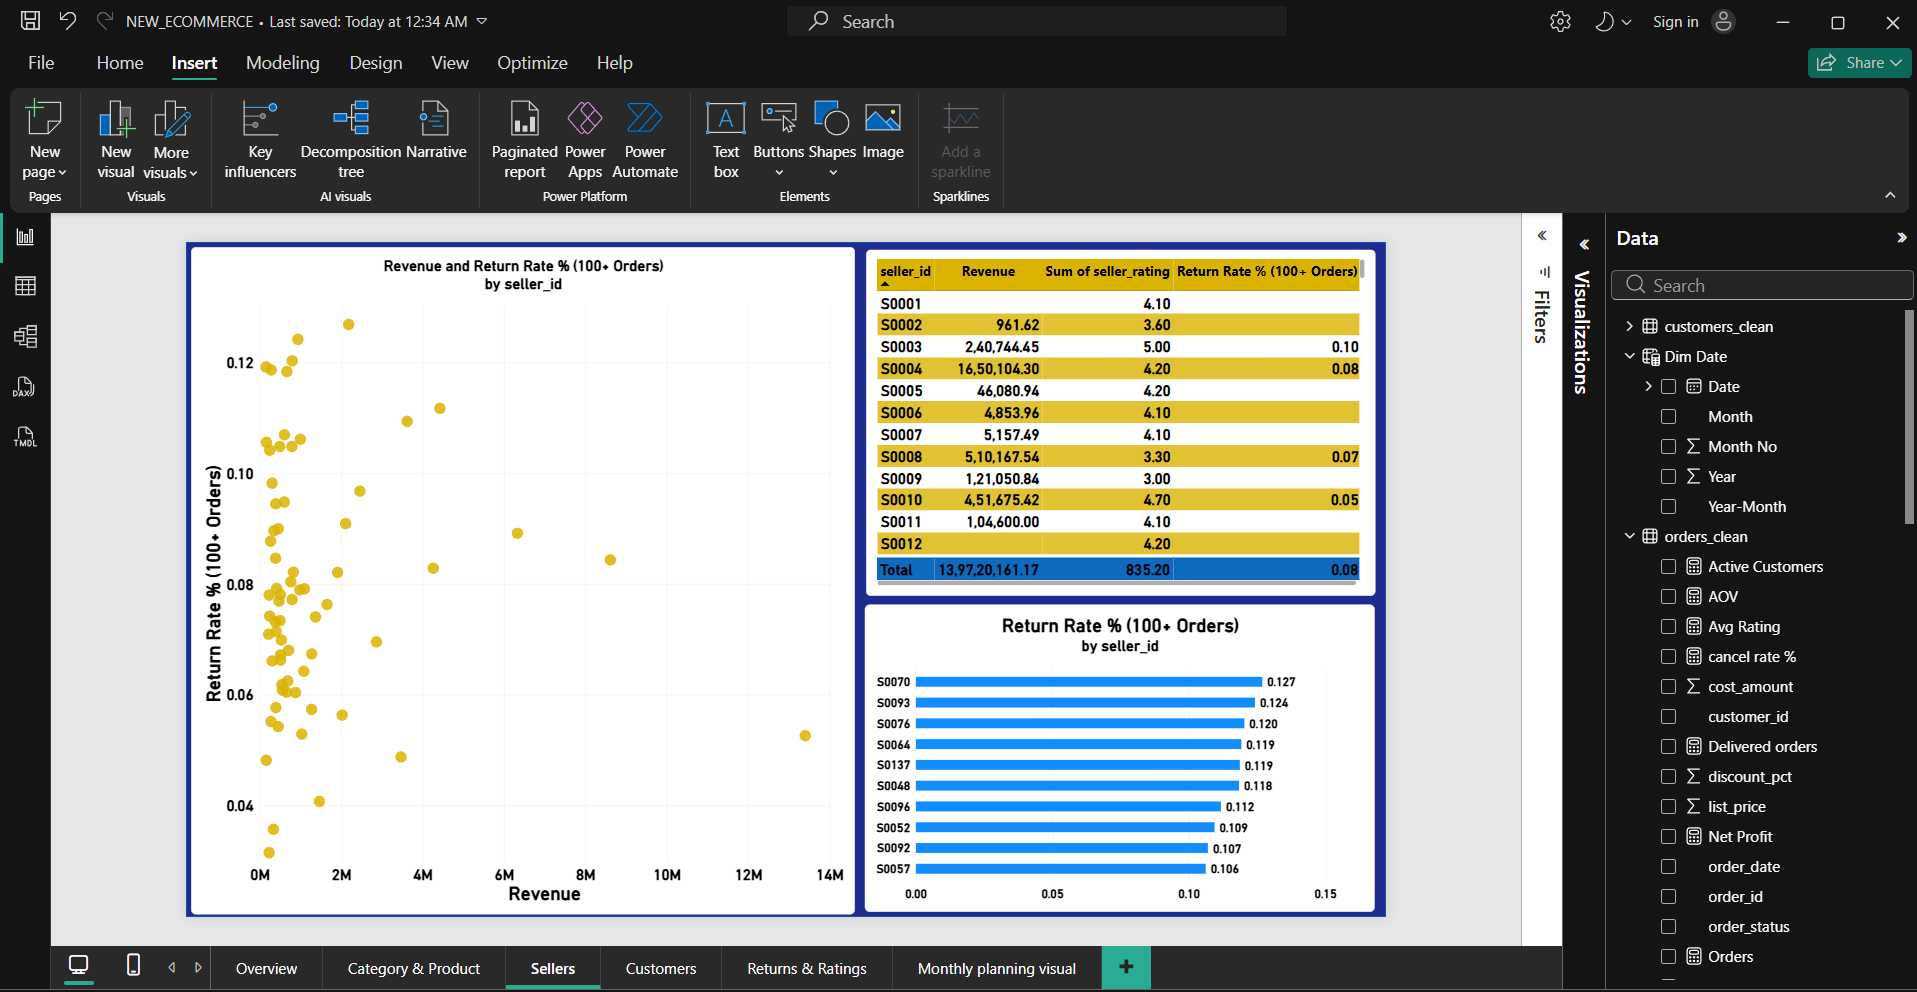

Layout of this report page (visuals, bound fields, positions):
{"tool":"powerbi","page":{"name":"Sellers","canvas":[1920,1080],"ordinal":2},"visuals":[{"type":"shape","box":[0,0,1920,1080],"z":0},{"type":"barChart","fields":{"Category":["sellers_clean.seller_id"],"Y":["orders_clean.Return Rate % (100+ Orders)"]},"box":[1086,580,816,492],"z":1000},{"type":"scatterChart","fields":{"Category":["sellers_clean.seller_id"],"X":["orders_clean.Revenue"],"Y":["orders_clean.Return Rate % (100+ Orders)"]},"box":[8,8,1062,1068],"z":2000},{"type":"tableEx","fields":{"Values":["sellers_clean.seller_id","orders_clean.Revenue","Sum(sellers_clean.seller_rating)","orders_clean.Return Rate % (100+ Orders)"]},"box":[1089,11.1,815.4,554.7],"z":3000}]}

Visuals, with their boxes on the page's 1920x1080 design canvas (x1, y1, x2, y2). These are canvas units, not pixel positions in the 1917x992 screenshot, which may show the page scaled, cropped or inside an application window:
shape: left=0, top=0, right=1920, bottom=1080
barChart - sellers_clean.seller_id x orders_clean.Return Rate % (100+ Orders): left=1086, top=580, right=1902, bottom=1072
scatterChart - sellers_clean.seller_id x orders_clean.Revenue: left=8, top=8, right=1070, bottom=1076
tableEx - sellers_clean.seller_id x orders_clean.Revenue: left=1089, top=11, right=1904, bottom=566
